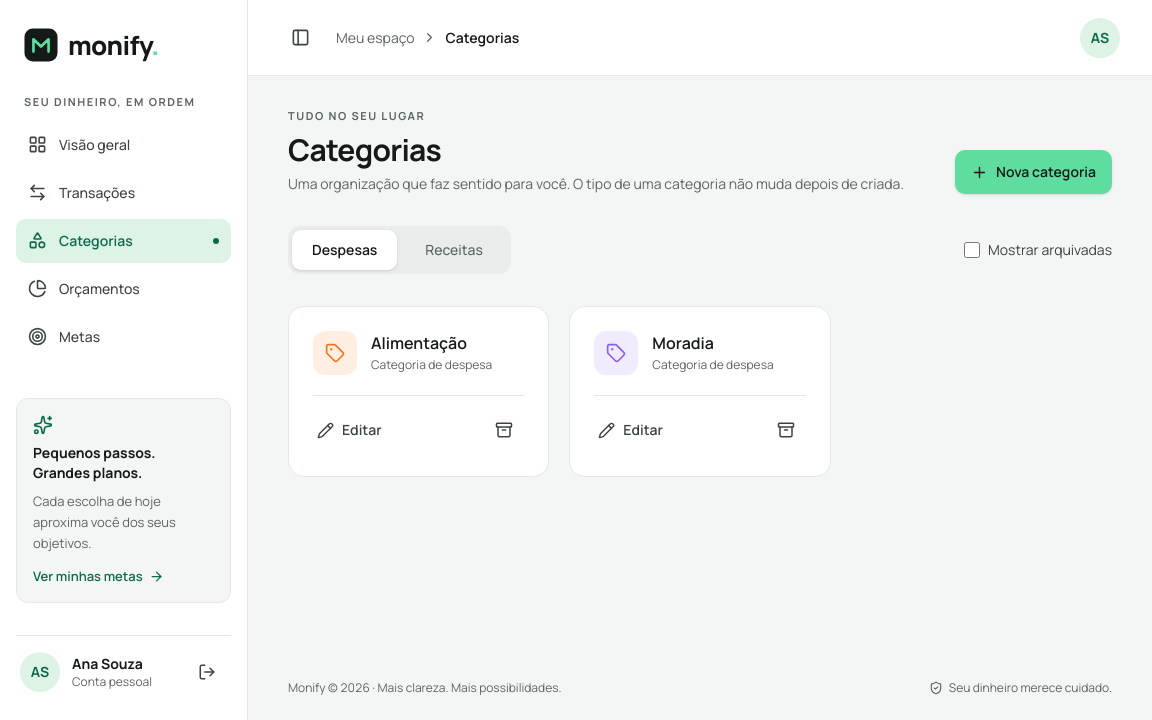
Test: Categorias › deve pedir confirmação antes de arquivar e então arquivar
Expected: the list named "Categorias" is shown, [288,306,831,477]
Click the button named "Arquivar Moradia" at (786, 430), box [766,410,806,450]
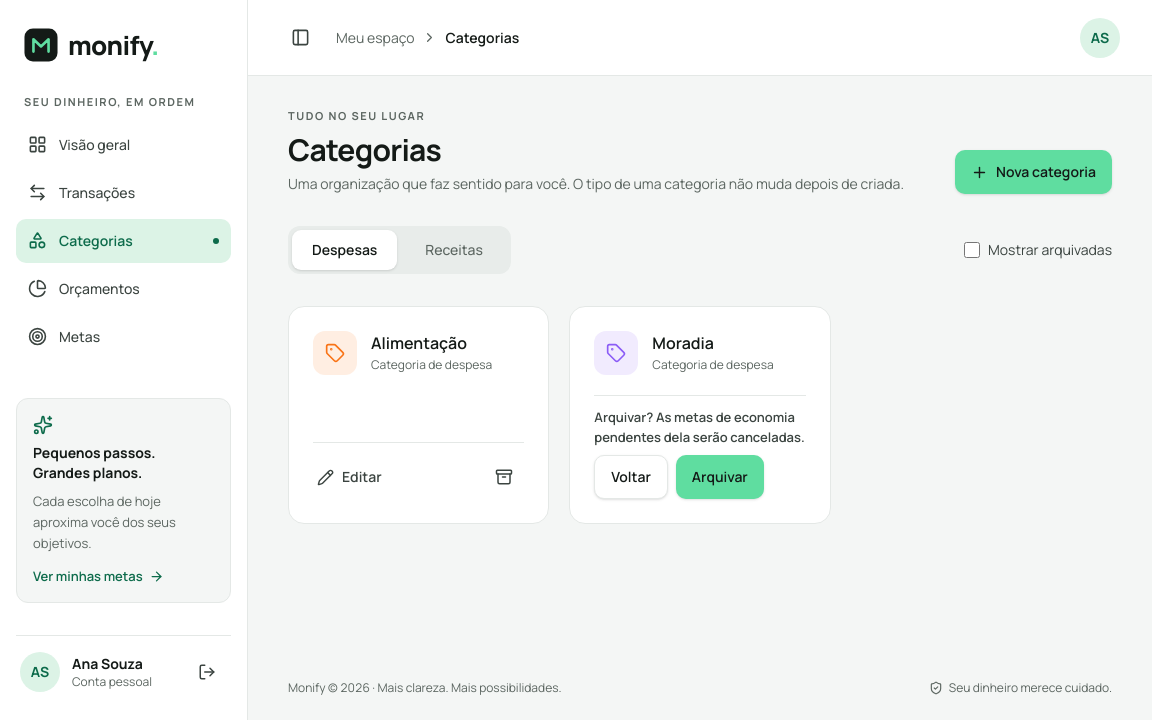
Result: the text "metas de economia pendentes dela serão canceladas" is shown at [594,408,805,446]
Click the button "Arquivar" at (720, 477), box [676,455,764,499]
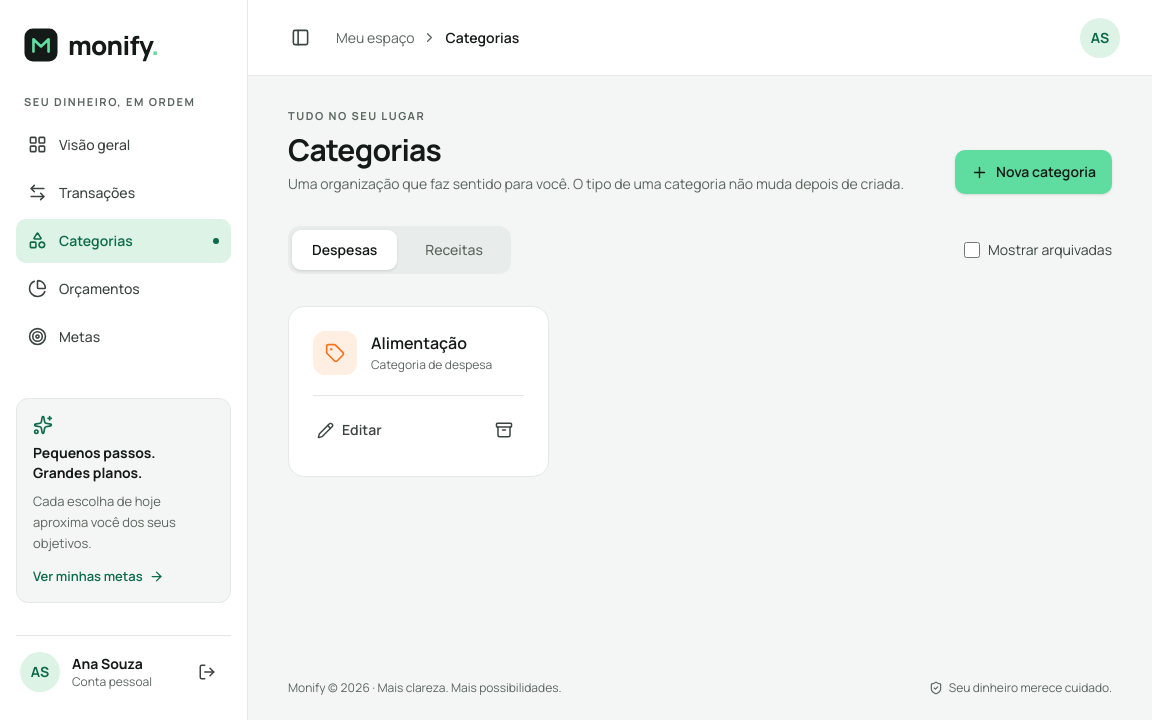
Result: the list named "Categorias" no longer shows "Moradia" at [288,306,549,477]
